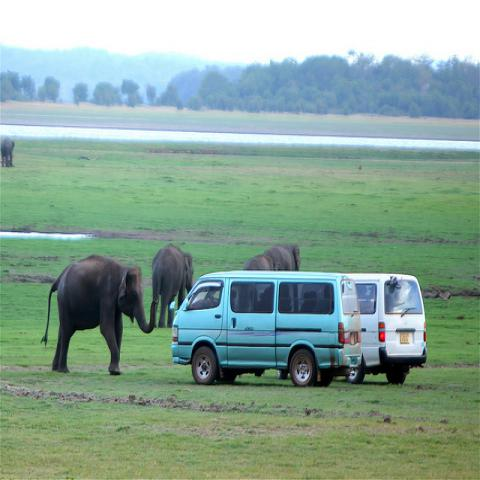car: (171, 270, 362, 386), (334, 272, 428, 386)
